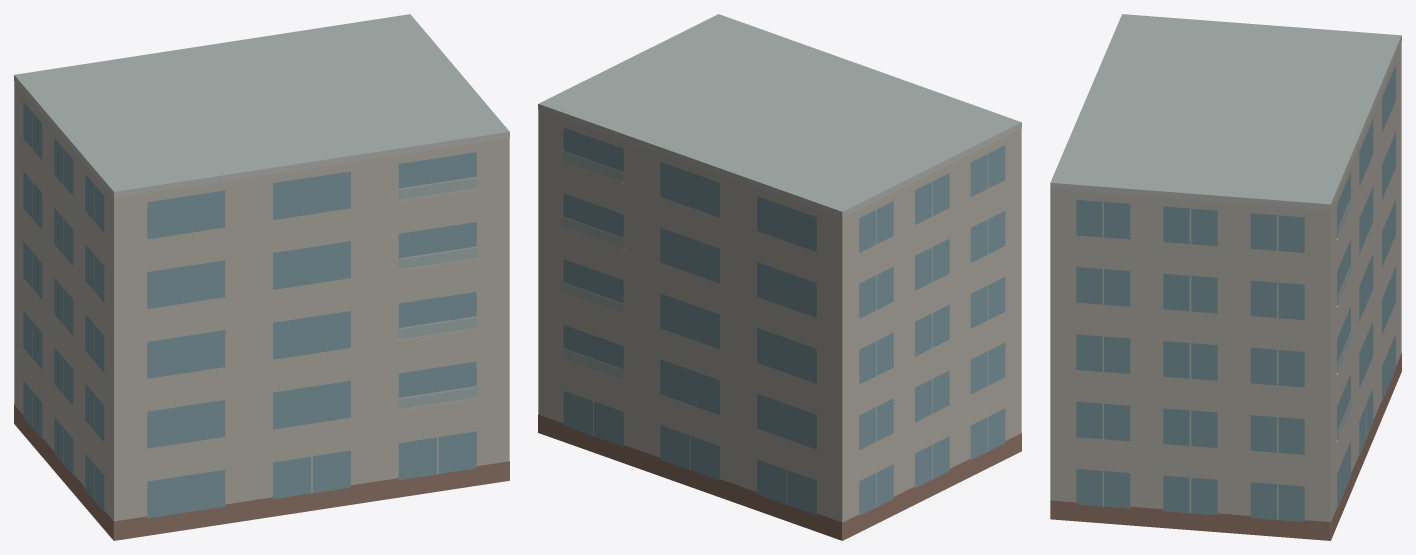
File: survey-upis-32619890.glb
3 renders of one model, left to right at view 1: azimuth 30°, elevation 25°; view 2: azimuth 150°, elevation 25°; view 3: azimuth 270°, elevation 25°, orthographic. The views are drawn at different scales.
Parts seen in each view (by area): view 1: survey-upis-32619890.tmp; view 2: survey-upis-32619890.tmp; view 3: survey-upis-32619890.tmp.
Boxes of the visible parts, box(x1,y1,x2,y2) form: survey-upis-32619890.tmp: box(14, 14, 509, 540); survey-upis-32619890.tmp: box(538, 14, 1021, 540); survey-upis-32619890.tmp: box(1050, 14, 1401, 540).
Bounding box in the file's own units: 16.39 × 13.5 × 12.79.
